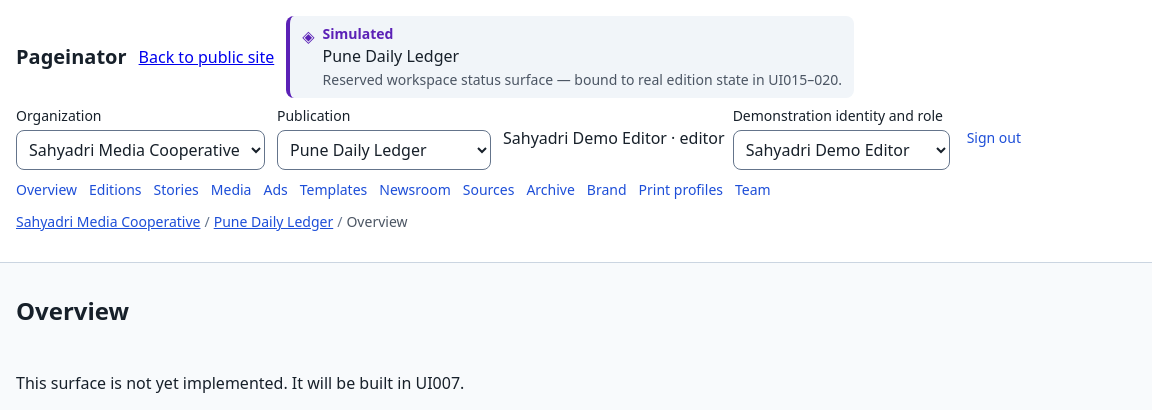
Test case: UI004 protected access › switches fictional profile, filtered options, role, and route together
This screenshot has width=1152, height=410.
Step 1. Select "Konkan Demo Reviewer" in the dropdown labelled "Demonstration identity and role" → coordinates (841, 150), box [733,130,950,170]
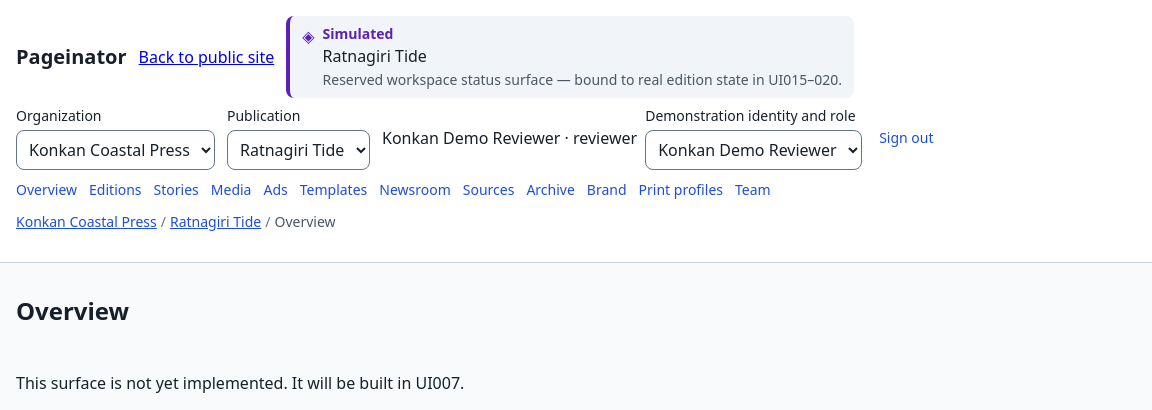
Expected: the text "Konkan Demo Reviewer" is shown, [382,127,560,149]
Expected: the text "Reviewer" is shown, [382,127,560,149]
Expected: the text "Sahyadri Media Cooperative" is gone
